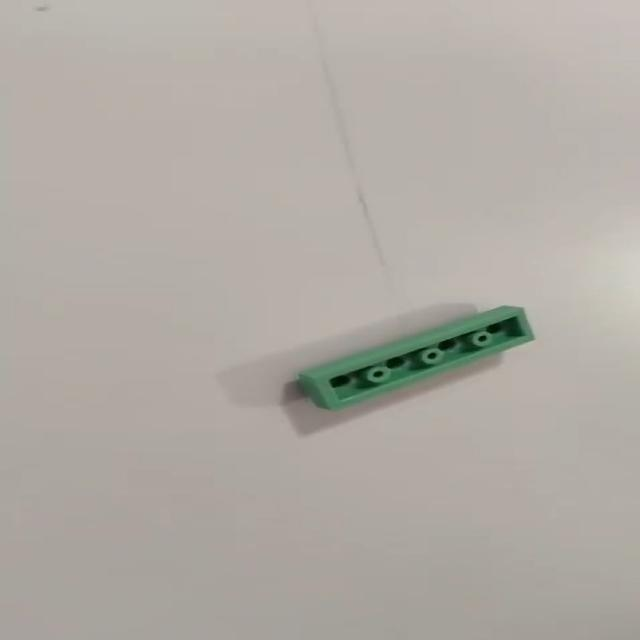C4x1x0: (267, 303, 533, 419)
